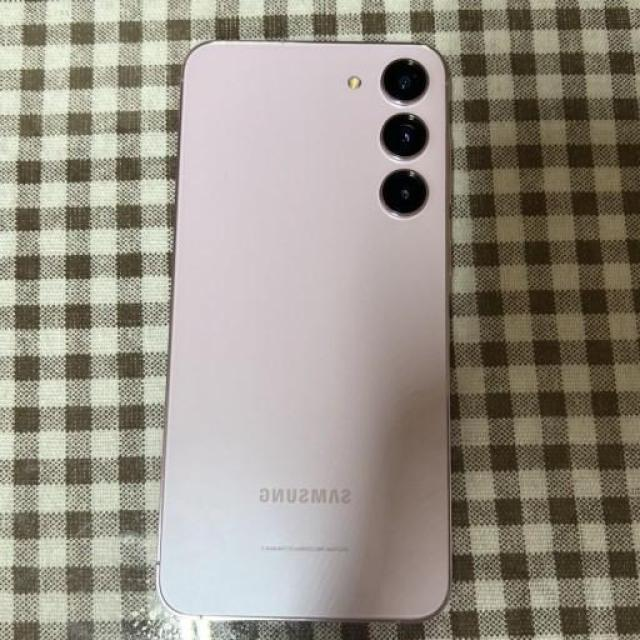mobile: (157, 38, 455, 628)
